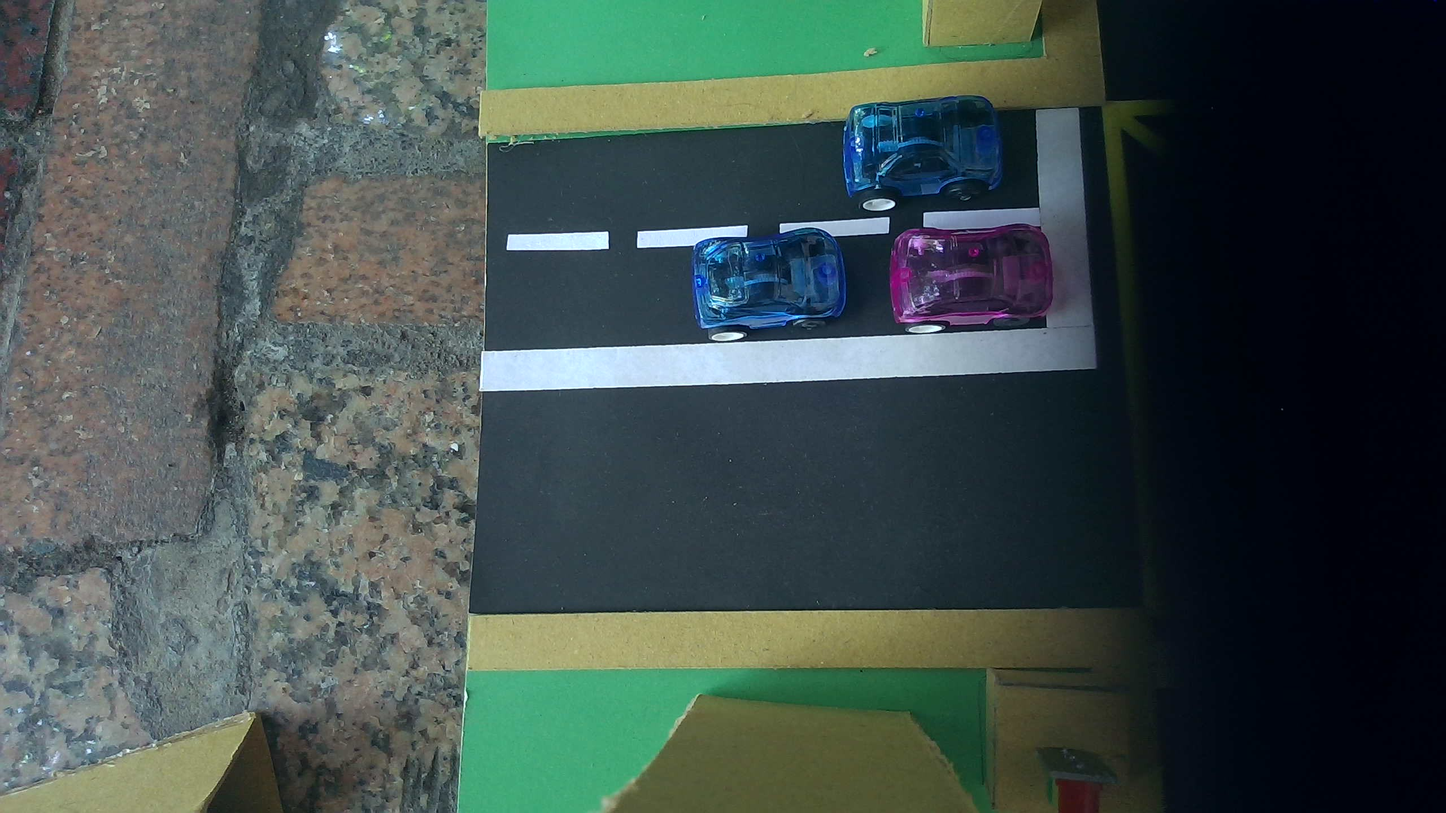Mobil biru: (843, 95, 1003, 212), (691, 228, 846, 340)
Mobil ungu: (890, 224, 1053, 333)
